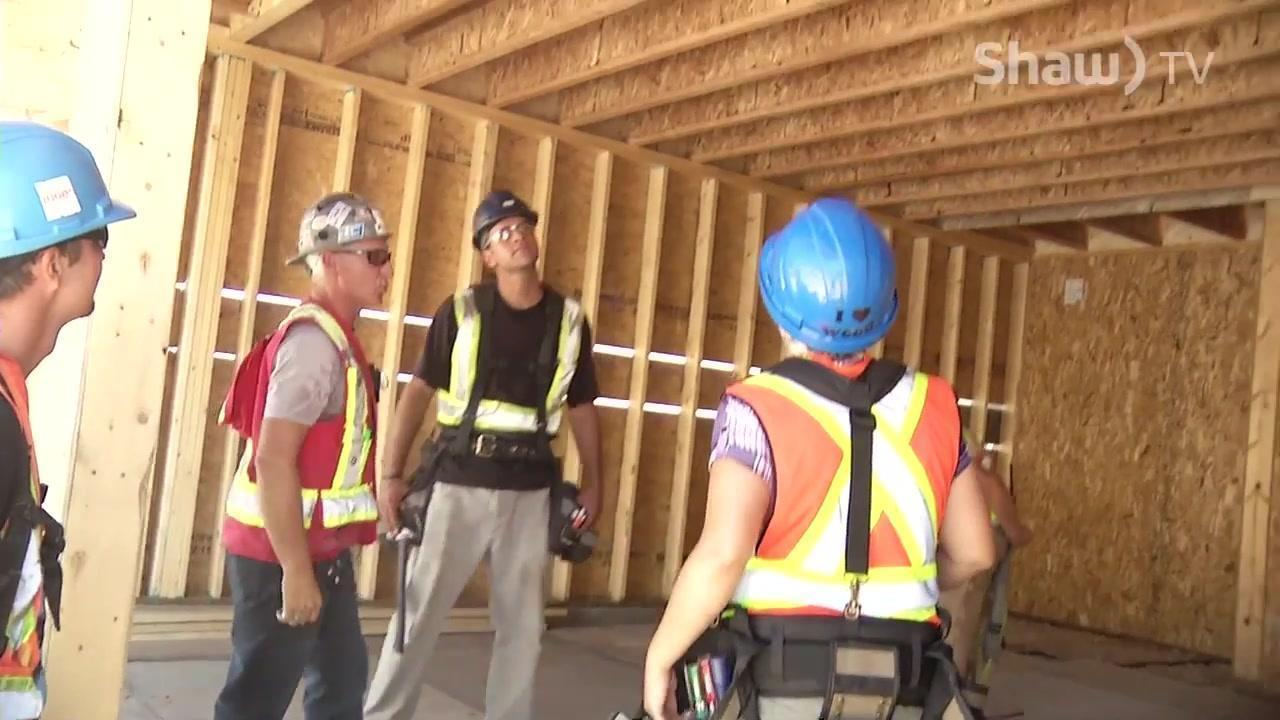Boots: (756, 192, 902, 367), (0, 104, 144, 280), (280, 195, 402, 275), (461, 185, 544, 248)
Glass: (717, 357, 965, 585), (223, 299, 385, 532), (436, 283, 583, 438)
